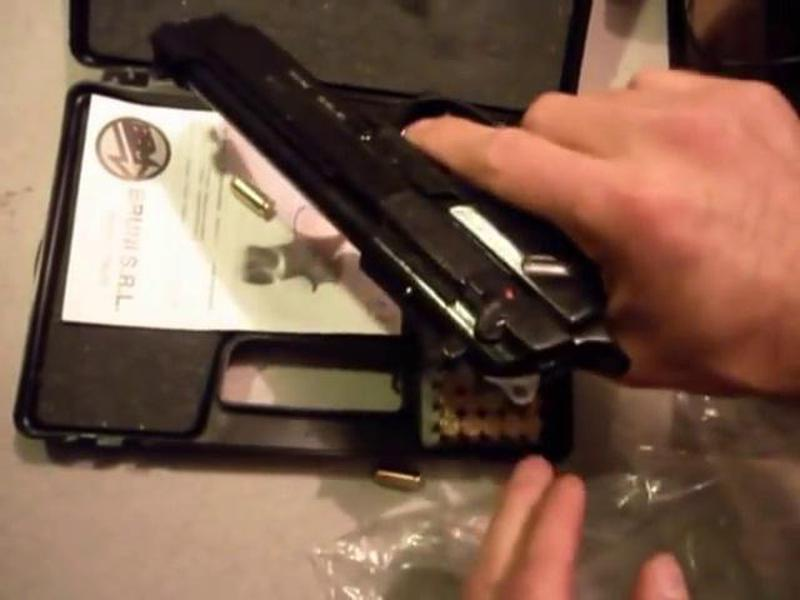Pistola: (140, 9, 669, 401)
